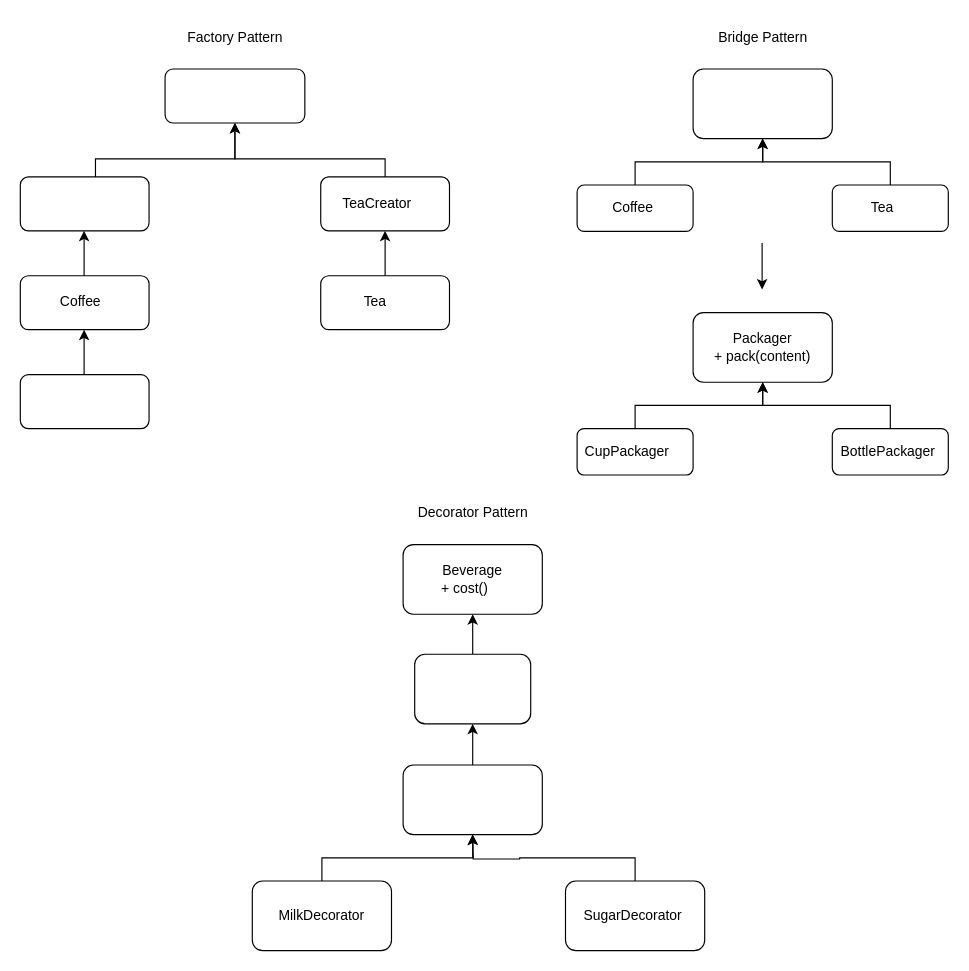
Image size: 969x971. Some labels were removed from this diagram. The shapes that lost their labels are listed below. From the top down, each one's box as (x1, y1, x2, y2) in pixels, then its label:
(164, 68, 305, 123): BeverageCreator + create_beverage()
(692, 68, 832, 139): BeverageWithPack - packager: Packager + serve()
(19, 176, 149, 231): CoffeeCreator
(19, 374, 149, 429): Beverage
(414, 653, 531, 724): SimpleCoffee
(402, 764, 542, 835): BeverageDecorator - beverage: Beverage + cost()
